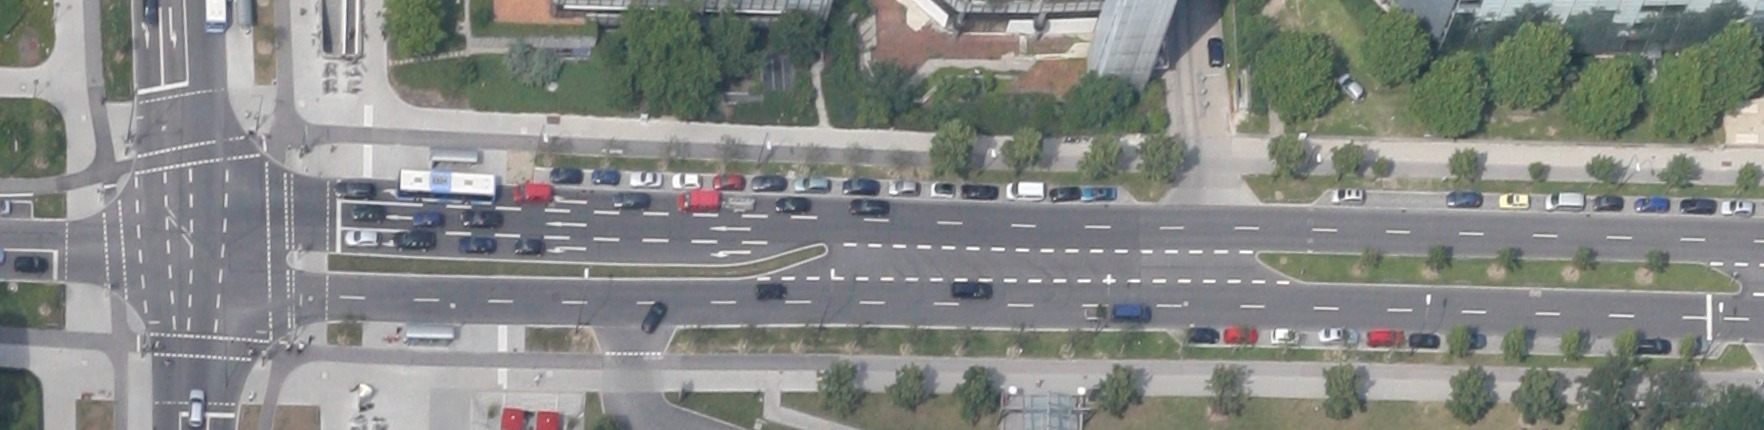car: (1334, 70, 1366, 104), (638, 301, 668, 334), (394, 229, 434, 250), (461, 208, 503, 229), (949, 280, 992, 299), (513, 182, 551, 204), (1545, 190, 1583, 212), (677, 190, 717, 210), (335, 178, 372, 198), (613, 191, 650, 210), (1317, 326, 1357, 344), (1111, 303, 1150, 321), (848, 197, 886, 215), (1005, 181, 1043, 199), (841, 177, 879, 195), (352, 203, 385, 223), (187, 387, 204, 425), (13, 256, 48, 274), (344, 229, 379, 247), (458, 238, 495, 254), (1366, 329, 1403, 346), (774, 196, 810, 213), (1186, 325, 1219, 343), (1678, 197, 1714, 214), (1444, 190, 1480, 207), (1636, 337, 1669, 353), (751, 174, 784, 191), (629, 170, 661, 187), (794, 177, 829, 192), (713, 172, 744, 190), (1270, 325, 1298, 344), (513, 238, 544, 254), (754, 283, 785, 299), (960, 183, 996, 198), (589, 167, 619, 185), (1223, 326, 1255, 342), (1330, 187, 1362, 203), (1081, 185, 1114, 200), (412, 210, 442, 227), (550, 167, 580, 183), (670, 171, 699, 189), (1720, 199, 1752, 215), (888, 179, 919, 195), (1633, 197, 1667, 212), (1592, 194, 1621, 210), (1207, 37, 1223, 68), (1408, 331, 1439, 347), (1497, 192, 1528, 208), (726, 196, 754, 213), (1051, 185, 1078, 201), (929, 181, 952, 197), (1083, 306, 1104, 321)
